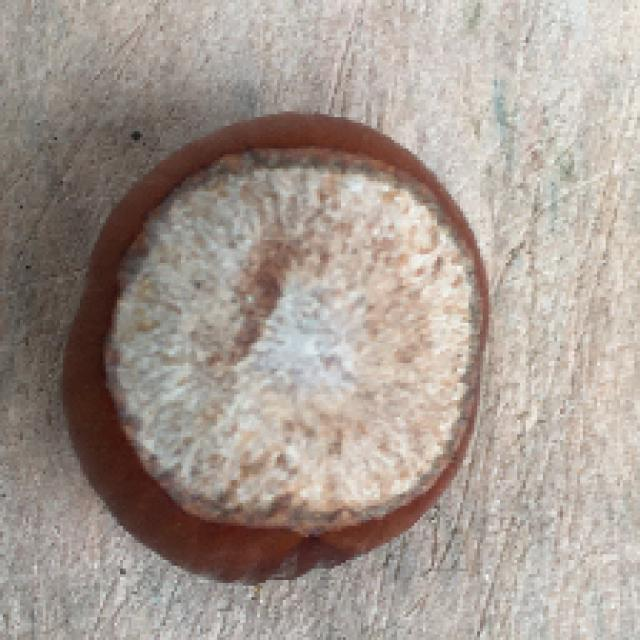qualityHazelnut: (60, 111, 488, 588)
